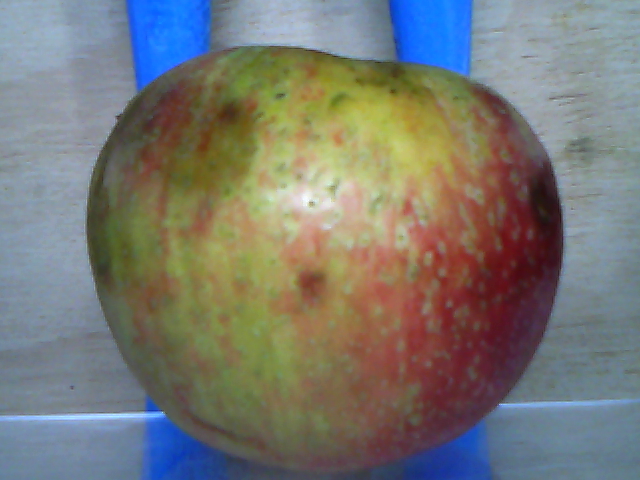bruise: (143, 78, 256, 200), (532, 160, 571, 242)
